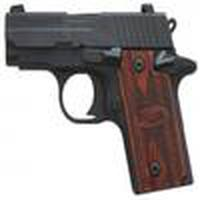gun: (5, 8, 195, 193)
